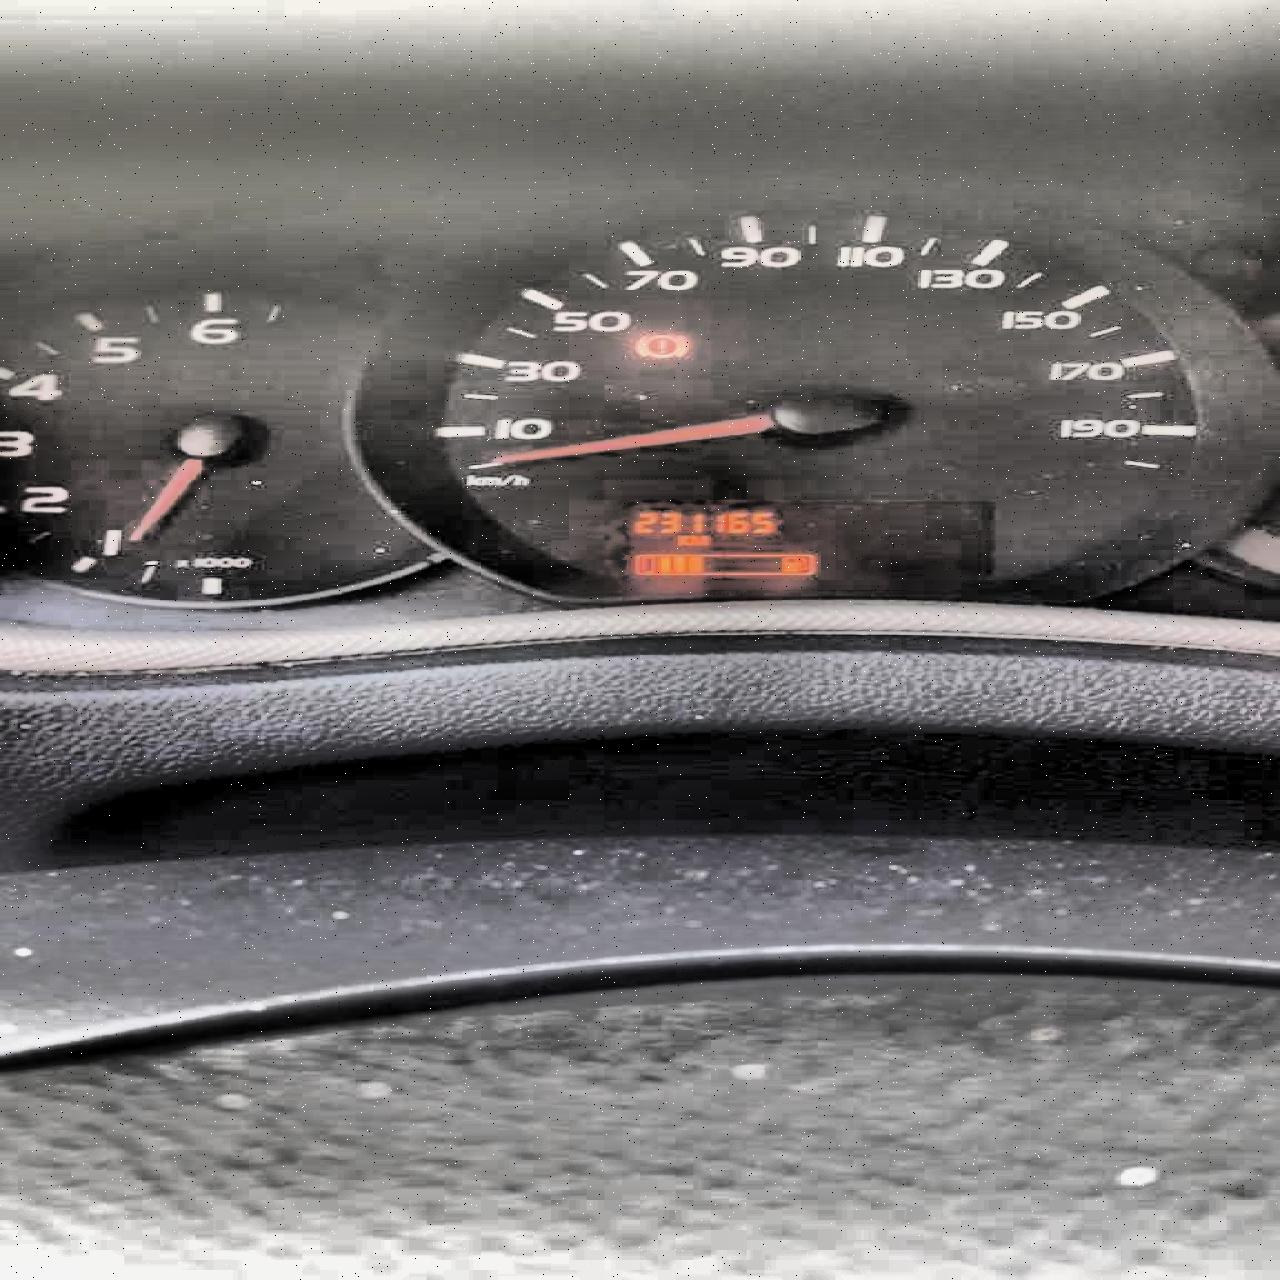1: (709, 510, 724, 535), (687, 511, 704, 532)
2: (628, 510, 655, 535)
3: (658, 510, 680, 535)
5: (749, 510, 774, 535)
6: (724, 510, 749, 535)
X: (685, 535, 709, 546), (672, 535, 687, 546)
odometer: (611, 492, 1005, 592)
